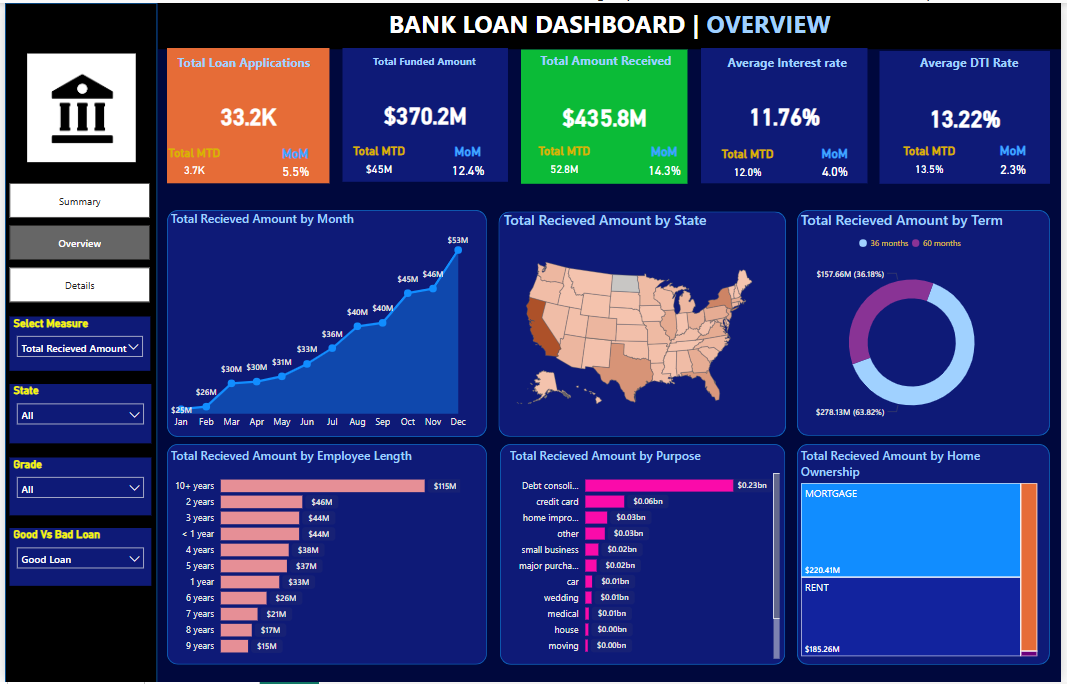

This screenshot's page, from the dashboard's own definition file:
{"tool":"powerbi","page":{"name":"Overview","canvas":[1400,900],"ordinal":1},"visuals":[{"type":"textbox","box":[201.9,0,1197.6,61.6],"z":0},{"type":"shape","box":[0,0,201.9,1000.8],"z":1000},{"type":"card","fields":{"Values":["financial_loan_full.Total Loan Applications"]},"box":[213.8,59.9,215.6,179.6],"z":2000},{"type":"textbox","box":[201.9,61.6,227.5,42.8],"z":3000},{"type":"card","title":"Total MTD ","fields":{"Values":["financial_loan_full.MTD Loan Application"]},"box":[201.7,188.3,100,50],"z":4000},{"type":"card","title":"MoM ","fields":{"Values":["financial_loan_full.MoM Loan Applications"]},"box":[325,188.3,121.7,50],"z":5000},{"type":"card","fields":{"Values":["financial_loan_full.Total Funded Amount"]},"box":[446.9,59.7,219.3,177.2],"z":6000},{"type":"textbox","box":[445.6,61.4,221.1,42.1],"z":7000},{"type":"card","title":"Total MTD ","fields":{"Values":["financial_loan_full.MTD Funded Amount"]},"box":[447.4,187.7,96.5,50.9],"z":8000},{"type":"card","title":"MoM ","fields":{"Values":["financial_loan_full.MoM Funded Amount"]},"box":[557.7,186.5,109.5,51.3],"z":9000},{"type":"card","fields":{"Values":["financial_loan_full.Total Recieved Amount"]},"box":[683.6,61.6,220.7,177.9],"z":10000},{"type":"textbox","box":[686,59.9,220.7,44.5],"z":11000},{"type":"card","title":"Total MTD ","fields":{"Values":["financial_loan_full.MTD Received Amount"]},"box":[691.2,186,98.2,50.9],"z":12000},{"type":"card","fields":{"Values":["financial_loan_full.Averege Interest Rate"]},"box":[921.8,59.9,220.7,179.6],"z":13000},{"type":"card","title":"MoM ","fields":{"Values":["financial_loan_full.MoM Received Amount"]},"box":[814,186,121.1,50.9],"z":14000},{"type":"textbox","box":[929,61.6,220.7,54.7],"z":15000},{"type":"card","title":"Total MTD ","fields":{"Values":["financial_loan_full.MTD Interest Rate Average"]},"box":[929,189.9,111.2,49.6],"z":16000},{"type":"card","title":"MoM ","fields":{"Values":["financial_loan_full.MoM Average Interest Rate"]},"box":[1040.2,188.2,119.8,49.6],"z":17000},{"type":"card","fields":{"Values":["financial_loan_full.Average DTI"]},"box":[1159.9,63.3,225.8,176.2],"z":18000},{"type":"textbox","box":[1171.9,61.6,213.8,42.8],"z":19000},{"type":"image","box":[0,62,202,154],"z":20000},{"type":"card","title":"Total MTD ","fields":{"Values":["financial_loan_full.MTD Average DTI Rate"]},"box":[1171.9,186.5,107.8,49.6],"z":21000},{"type":"card","title":"MoM ","fields":{"Values":["financial_loan_full.MoM Average DTI"]},"box":[1286.5,184.8,99.2,53],"z":22000},{"type":"shape","box":[213.8,273.7,424.3,301.1],"z":23000,"group":"g2"},{"type":"slicer","title":"State","fields":{"Values":["financial_loan_full.address_state"]},"box":[6.8,505.5,188.2,78.7],"z":23000},{"type":"slicer","title":"Grade","fields":{"Values":["financial_loan_full.grade"]},"box":[6.8,601.8,188.2,77],"z":24000},{"type":"slicer","title":"Good Vs Bad Loan","fields":{"Values":["financial_loan_full.Good Loan Vs Bad Loan"]},"box":[5.1,696.3,188.2,77],"z":25000},{"type":"slicer","title":"Select Measure","fields":{"Values":["Select Measure.Select Measure"]},"box":[6.8,416.2,186.5,71.9],"z":26000},{"type":"areaChart","fields":{"Y":["financial_loan_full.Total Recieved Amount"],"Category":["Date Table.Month"]},"box":[213.8,273.7,404.3,298.9],"z":27000,"group":"g2"},{"type":"shape","box":[655.2,585.1,378.1,292.5],"z":27000},{"type":"shape","box":[1050.6,585.1,335.3,292.9],"z":28000},{"type":"shape","box":[653.5,275.9,381.5,298.9],"z":29000,"group":"g3"},{"type":"barChart","fields":{"Y":["financial_loan_full.Total Recieved Amount"],"Category":["financial_loan_full.purpose"]},"box":[663.8,588.5,367.8,285.7],"z":29000},{"type":"shape","box":[213.8,585.1,424.3,292.5],"z":30000,"group":"g1"},{"type":"treemap","fields":{"Values":["financial_loan_full.Total Recieved Amount"],"Group":["financial_loan_full.home_ownership"]},"box":[1050.4,588.5,323.3,282.3],"z":30000},{"type":"pageNavigator","box":[6.8,237.8,186.5,160.8],"z":31000},{"type":"shapeMap","fields":{"Value":["financial_loan_full.Total Recieved Amount"],"Category":["financial_loan_full.address_state"]},"box":[655.3,273.7,356.5,301.1],"z":31000,"group":"g3"},{"type":"shape","box":[1050.4,273.7,335.3,299.4],"z":32000,"group":"g4"},{"type":"group","id":"g1","title":"Group 3","box":[213.8,585.1,424.3,292.5],"z":32000},{"type":"group","id":"g2","title":"Group 4","box":[213.8,273.7,424.3,301.1],"z":33000},{"type":"donutChart","fields":{"Y":["financial_loan_full.Total Recieved Amount"],"Category":["financial_loan_full.term"]},"box":[1050.4,273.7,303.8,299.4],"z":33000,"group":"g4"},{"type":"group","id":"g3","title":"Group 5","box":[653.5,273.7,381.5,301.1],"z":34000},{"type":"group","id":"g4","title":"Group 6","box":[1050.4,273.7,335.3,299.4],"z":35000},{"type":"barChart","fields":{"Y":["financial_loan_full.Total Recieved Amount"],"Category":["financial_loan_full.emp_length"]},"box":[213.8,589.4,393.8,286.1],"z":36000,"group":"g1"}]}

Visuals, with their boxes in screenshot pixels (x1, y1, x2, y2), scaled from the page's 1400x900 canvas onto the 1067x684 screenshot:
textbox: <bbox>154, 0, 1066, 47</bbox>
shape: <bbox>0, 0, 154, 683</bbox>
card - financial_loan_full.Total Loan Applications: <bbox>163, 46, 327, 182</bbox>
textbox: <bbox>154, 47, 327, 79</bbox>
"Total MTD " card: <bbox>154, 143, 230, 181</bbox>
"MoM " card: <bbox>248, 143, 340, 181</bbox>
card - financial_loan_full.Total Funded Amount: <bbox>341, 45, 508, 180</bbox>
textbox: <bbox>340, 47, 508, 79</bbox>
"Total MTD " card: <bbox>341, 143, 415, 181</bbox>
"MoM " card: <bbox>425, 142, 509, 181</bbox>
card - financial_loan_full.Total Recieved Amount: <bbox>521, 47, 689, 182</bbox>
textbox: <bbox>523, 46, 691, 79</bbox>
"Total MTD " card: <bbox>527, 141, 602, 180</bbox>
card - financial_loan_full.Averege Interest Rate: <bbox>703, 46, 871, 182</bbox>
"MoM " card: <bbox>620, 141, 713, 180</bbox>
textbox: <bbox>708, 47, 876, 88</bbox>
"Total MTD " card: <bbox>708, 144, 793, 182</bbox>
"MoM " card: <bbox>793, 143, 884, 181</bbox>
card - financial_loan_full.Average DTI: <bbox>884, 48, 1056, 182</bbox>
textbox: <bbox>893, 47, 1056, 79</bbox>
image: <bbox>0, 47, 154, 164</bbox>
"Total MTD " card: <bbox>893, 142, 975, 179</bbox>
"MoM " card: <bbox>980, 140, 1056, 181</bbox>
shape: <bbox>163, 208, 486, 437</bbox>
"State" slicer: <bbox>5, 384, 149, 444</bbox>
"Grade" slicer: <bbox>5, 457, 149, 516</bbox>
"Good Vs Bad Loan" slicer: <bbox>4, 529, 147, 588</bbox>
"Select Measure" slicer: <bbox>5, 316, 147, 371</bbox>
areaChart - financial_loan_full.Total Recieved Amount x Date Table.Month: <bbox>163, 208, 471, 435</bbox>
shape: <bbox>499, 445, 788, 667</bbox>
shape: <bbox>801, 445, 1056, 667</bbox>
shape: <bbox>498, 210, 789, 437</bbox>
barChart - financial_loan_full.Total Recieved Amount x financial_loan_full.purpose: <bbox>506, 447, 786, 664</bbox>
shape: <bbox>163, 445, 486, 667</bbox>
treemap - financial_loan_full.Total Recieved Amount x financial_loan_full.home_ownership: <bbox>801, 447, 1047, 662</bbox>
pageNavigator: <bbox>5, 181, 147, 303</bbox>
shapeMap - financial_loan_full.Total Recieved Amount x financial_loan_full.address_state: <bbox>499, 208, 771, 437</bbox>
shape: <bbox>801, 208, 1056, 436</bbox>
"Group 3" group: <bbox>163, 445, 486, 667</bbox>
"Group 4" group: <bbox>163, 208, 486, 437</bbox>
donutChart - financial_loan_full.Total Recieved Amount x financial_loan_full.term: <bbox>801, 208, 1032, 436</bbox>
"Group 5" group: <bbox>498, 208, 789, 437</bbox>
"Group 6" group: <bbox>801, 208, 1056, 436</bbox>
barChart - financial_loan_full.Total Recieved Amount x financial_loan_full.emp_length: <bbox>163, 448, 463, 665</bbox>
